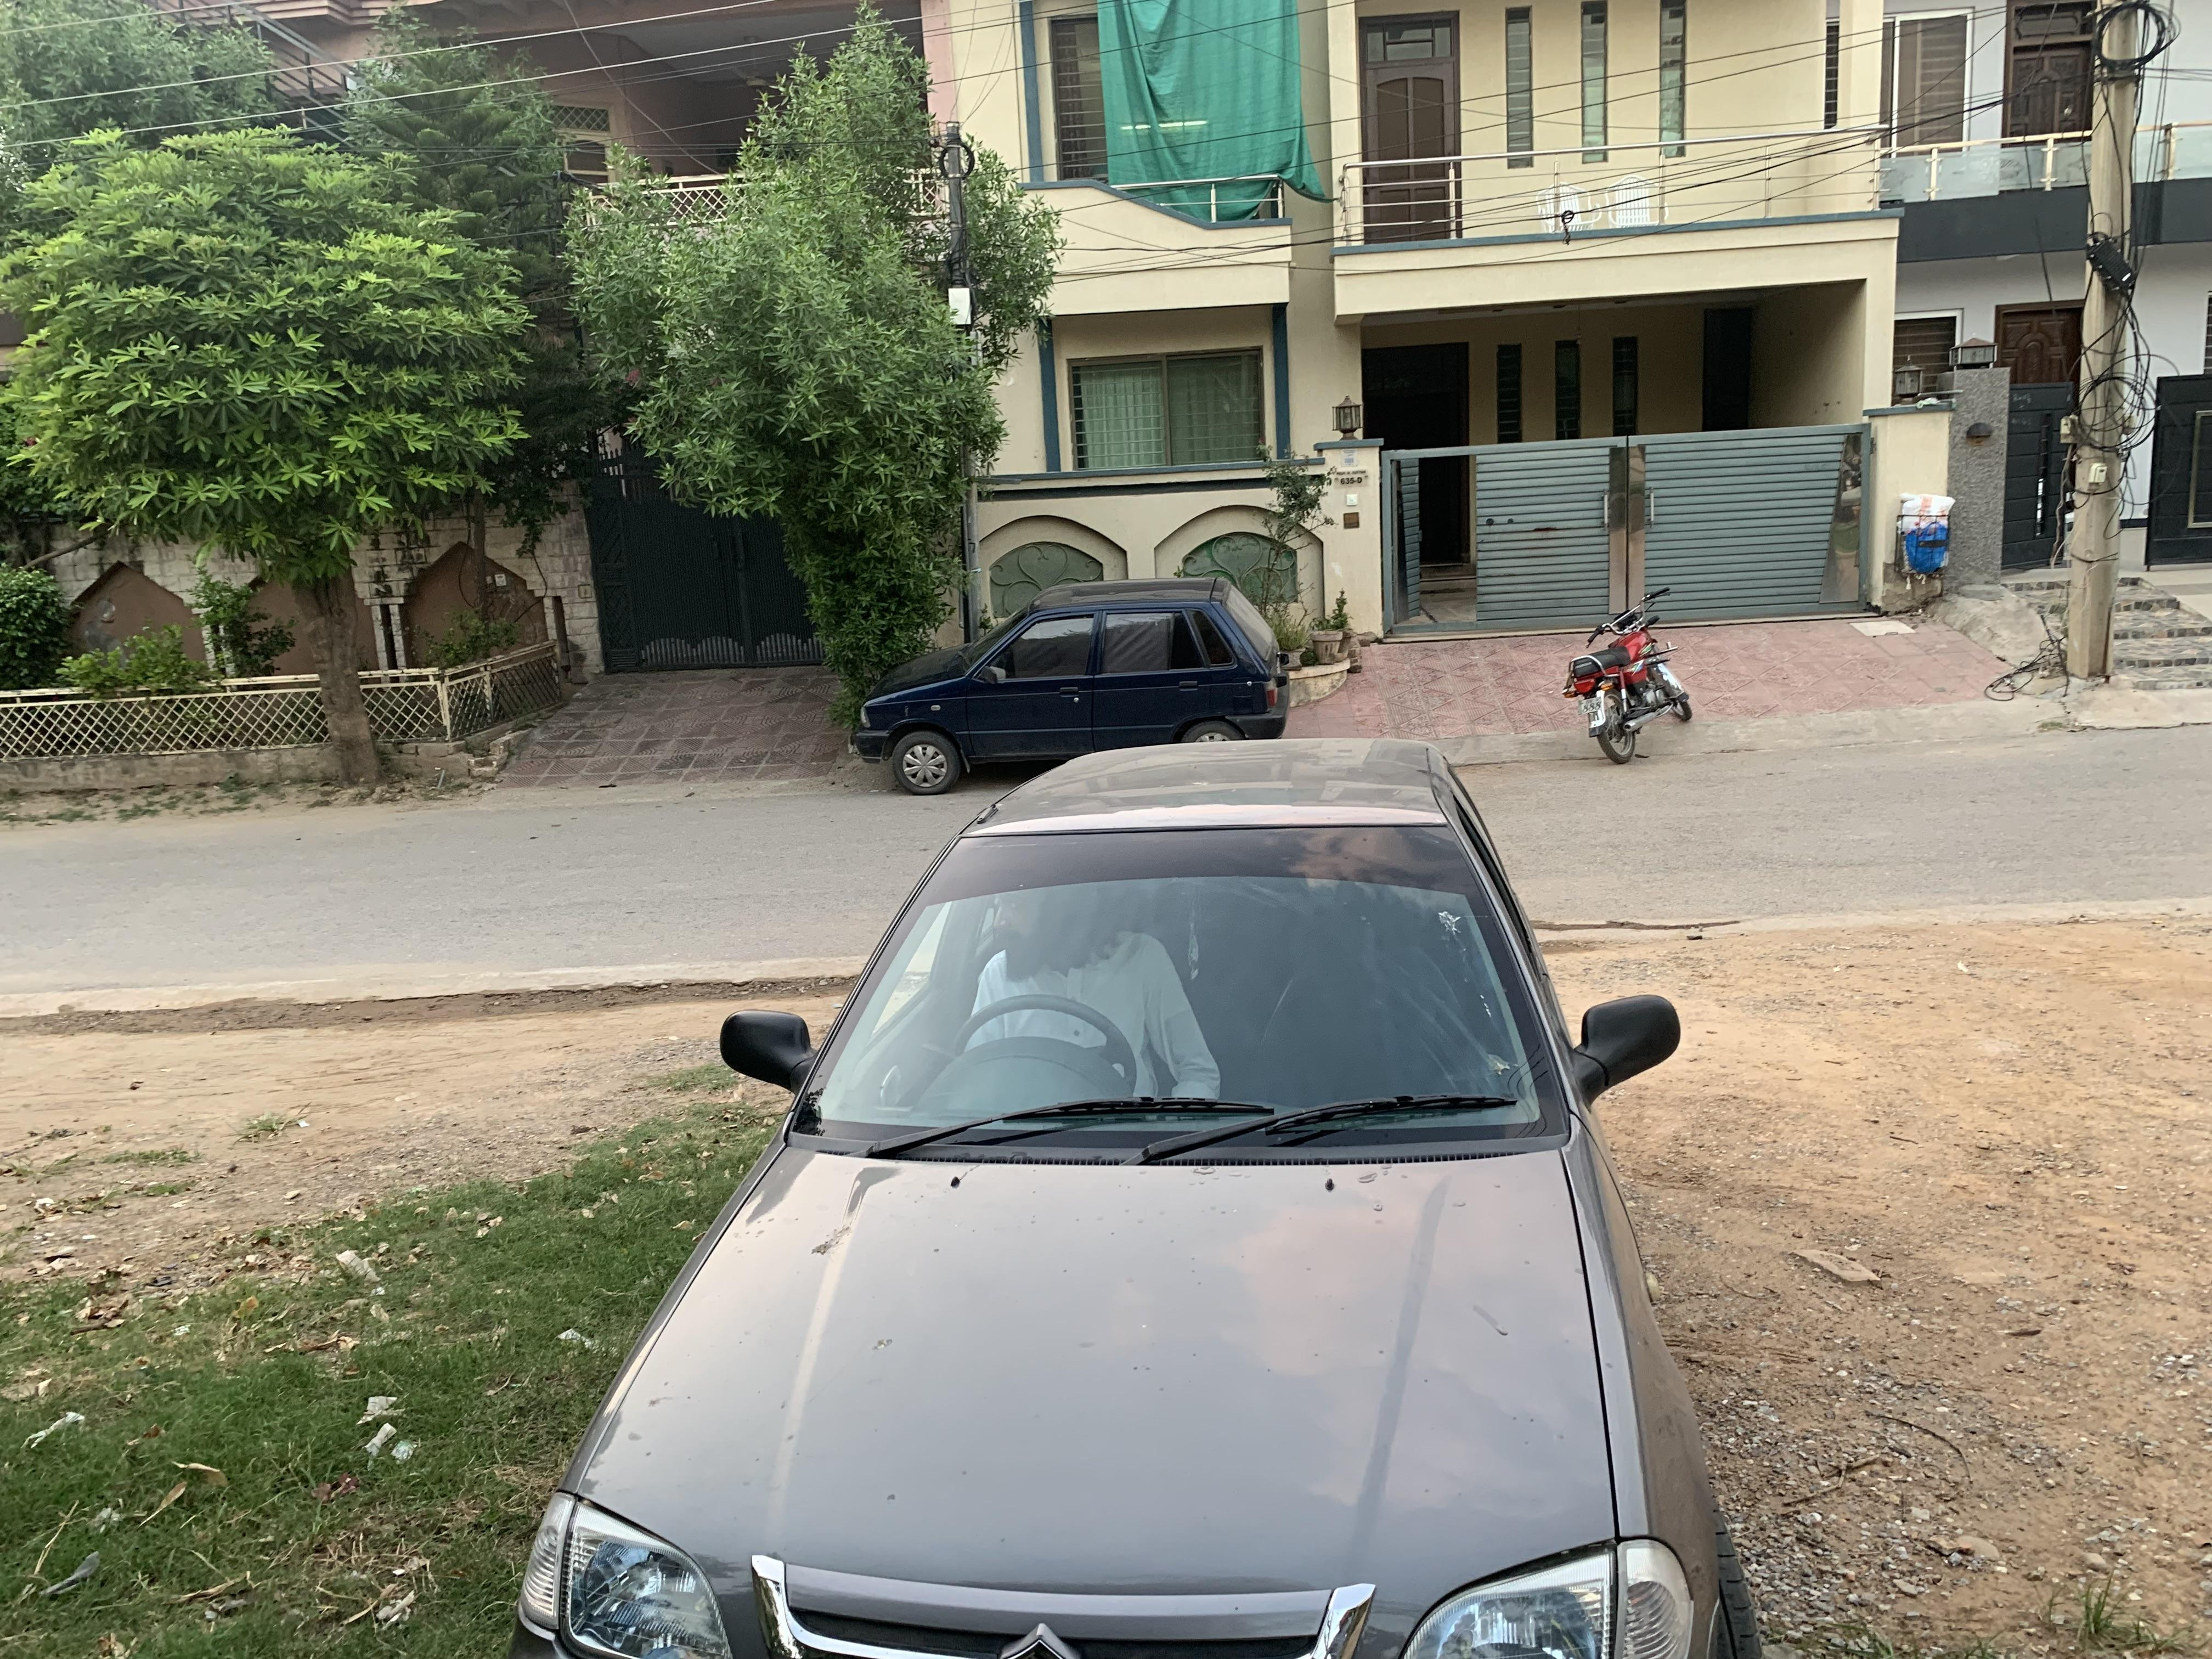windshield: (780, 802, 1592, 1157)
